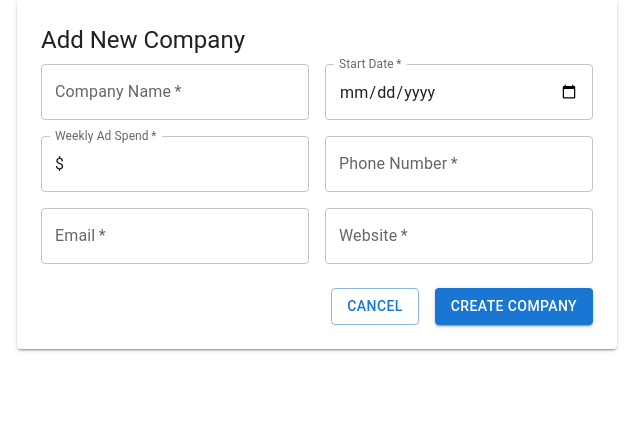
Test case: CompanyForm › Create Mode › validates phone number format
The width and height of the screenshot is (635, 438).
Type "123" into the field labelled "Phone Number *" at (459, 164), box 325,136 -> 593,192
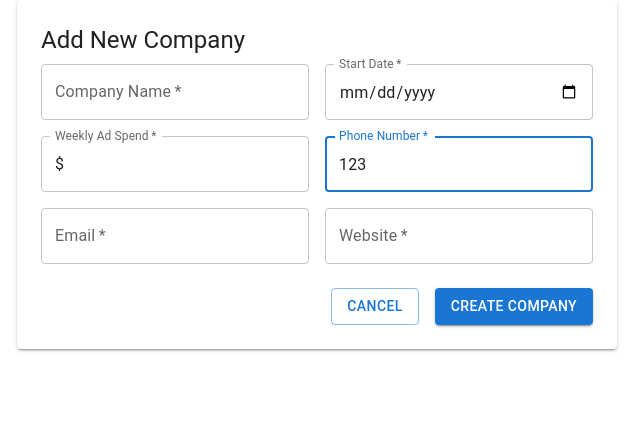
Click the button "Create Company" at (514, 307), box 435,288 -> 593,325
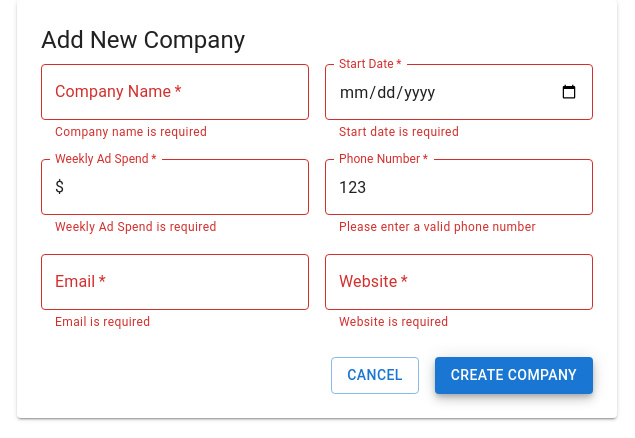
expect the text "Please enter a valid phone number" is shown: met, box 339,220 -> 536,234
